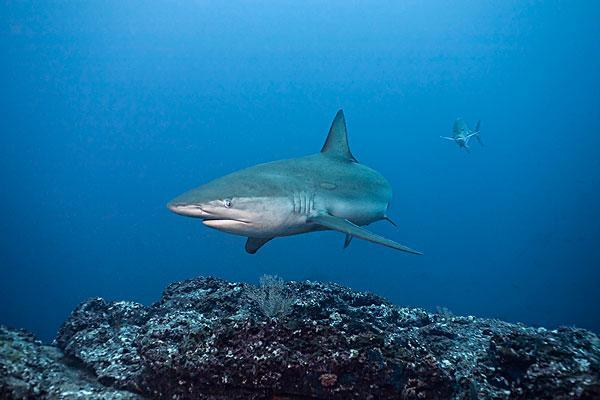fish: (156, 115, 412, 252), (441, 117, 490, 152)
